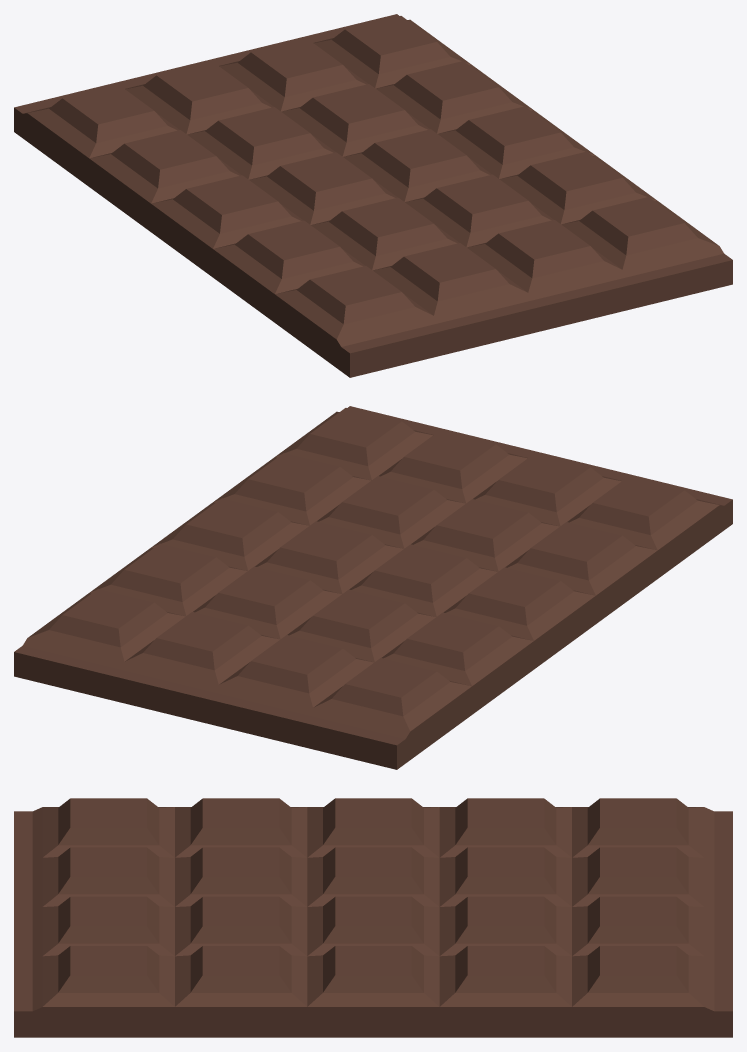
File: quaternius-ultimate-food-chocolatebar.glb
3 views of the same model, one above another, from view 1: azimuth 30°, elevation 25°; view 2: azimuth 150°, elevation 25°; view 3: azimuth 270°, elevation 25° (orthographic). The views are drawn at different scales.
Parts seen in each view (by area): view 1: ChocolateBar; view 2: ChocolateBar; view 3: ChocolateBar.
Boxes of the visible parts, box(x1,y1,x2,y2) form: ChocolateBar: box(14, 14, 732, 377); ChocolateBar: box(14, 406, 732, 769); ChocolateBar: box(14, 798, 732, 1037).
Bounding box in the file's own units: 0.5753 × 0.0683 × 0.8742.
